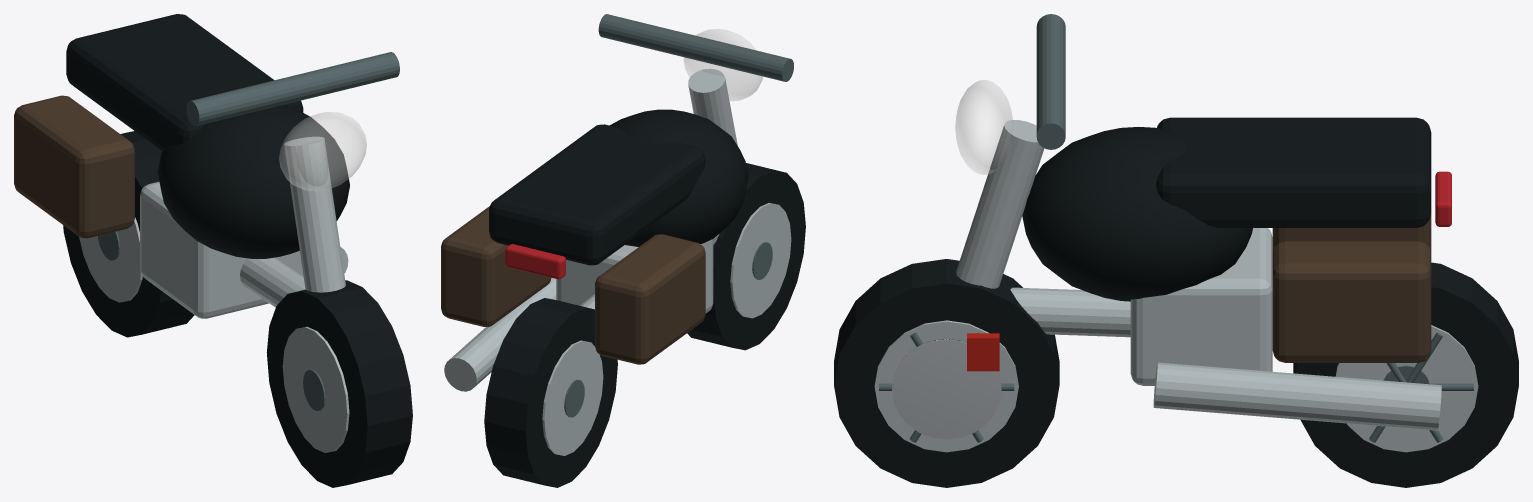
Rendered from hiperreal-hd.glb.
3 renders of one model, left to right at view 1: azimuth 30°, elevation 25°; view 2: azimuth 150°, elevation 25°; view 3: azimuth 270°, elevation 25°, orthographic. The views are drawn at different scales.
Visible parts, largest first — view 1: Fuel tank, Tyre.001, Saddle, Saddle bag, Engine, Fork, Tyre, Handlebar, Rim.001, Headlight, Rim, Frame (+2 smaller); view 2: Saddle, Tyre, Saddle bag, Fuel tank, Tyre.001, Saddle bag.001, Handlebar, Rim.001, Rim, Exhaust, Engine, Fork (+4 smaller); view 3: Saddle, Fuel tank, Tyre.001, Saddle bag.001, Tyre, Engine, Exhaust, Hiperreal disco de freno, Fork, Rim, Rim.001, Frame (+5 smaller).
Part boxes in pixels (left/top/right/bottom): Fuel tank: left=157, top=105, right=349, bottom=258; Tyre.001: left=266, top=280, right=412, bottom=487; Saddle: left=66, top=14, right=303, bottom=151; Saddle bag: left=14, top=95, right=134, bottom=238; Engine: left=140, top=182, right=303, bottom=318; Fork: left=284, top=136, right=345, bottom=292; Tyre: left=63, top=131, right=194, bottom=337; Handlebar: left=186, top=52, right=399, bottom=126; Rim.001: left=282, top=326, right=349, bottom=452; Headlight: left=279, top=112, right=366, bottom=190; Rim: left=79, top=217, right=142, bottom=302; Frame: left=240, top=257, right=305, bottom=307; Saddle: left=489, top=124, right=705, bottom=265; Tyre: left=484, top=298, right=617, bottom=487; Saddle bag: left=595, top=234, right=705, bottom=364; Fuel tank: left=609, top=109, right=748, bottom=246; Tyre.001: left=687, top=163, right=805, bottom=350; Saddle bag.001: left=441, top=206, right=551, bottom=326; Handlebar: left=598, top=14, right=793, bottom=81; Rim.001: left=730, top=203, right=791, bottom=318; Rim: left=542, top=340, right=603, bottom=455; Exhaust: left=444, top=278, right=556, bottom=391; Engine: left=556, top=239, right=713, bottom=313; Fork: left=688, top=68, right=737, bottom=145; Saddle: left=1156, top=117, right=1431, bottom=227; Fuel tank: left=1022, top=127, right=1252, bottom=301; Tyre.001: left=834, top=259, right=1059, bottom=487; Saddle bag.001: left=1272, top=241, right=1431, bottom=362; Tyre: left=1293, top=262, right=1518, bottom=487; Engine: left=1130, top=228, right=1272, bottom=385; Exhaust: left=1153, top=362, right=1441, bottom=430; Hiperreal disco de freno: left=892, top=338, right=1001, bottom=439; Fork: left=956, top=120, right=1044, bottom=288; Rim: left=1335, top=325, right=1478, bottom=452; Rim.001: left=874, top=320, right=1018, bottom=452; Frame: left=1010, top=287, right=1130, bottom=337.
Bounding box in the file's own units: 0.4 × 0.6143 × 0.9371.
